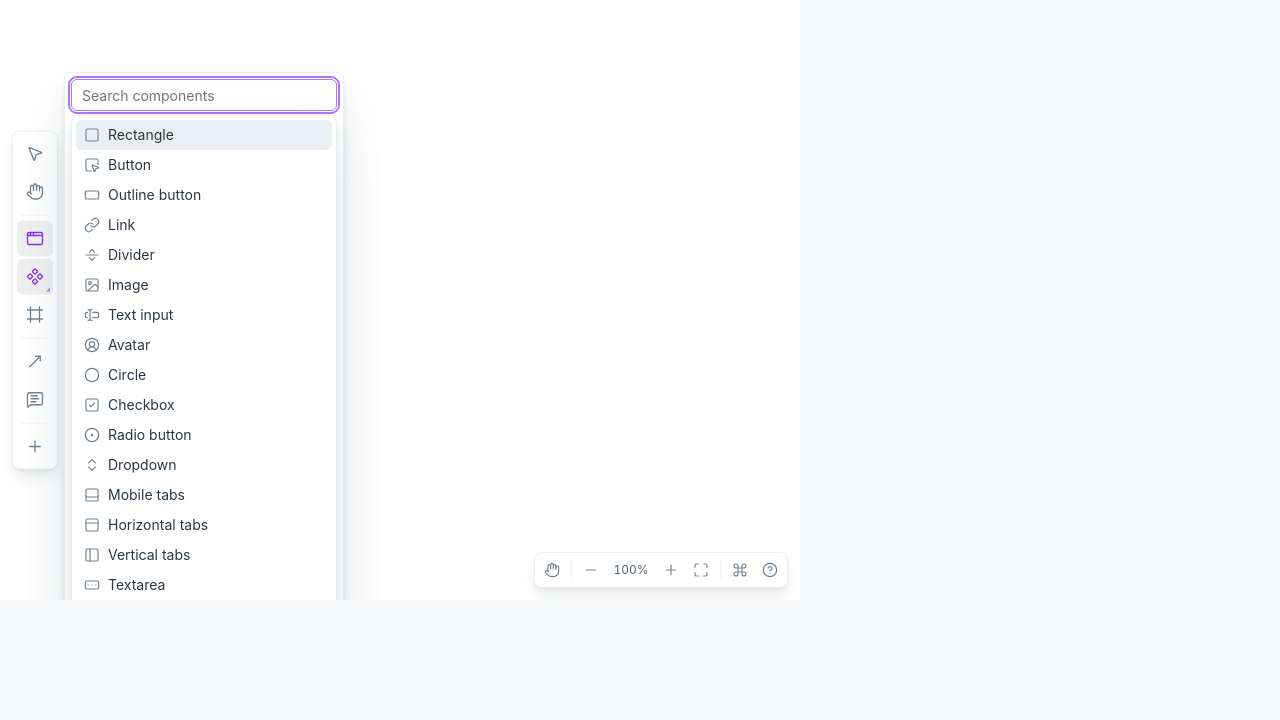
Test: wireframe plugin › opens the component launcher with E, filters, picks and places with Enter
This screenshot has width=1280, height=720.
Type "modal" into the field with placeholder "Search components" at (204, 95), box [71,79,337,111]
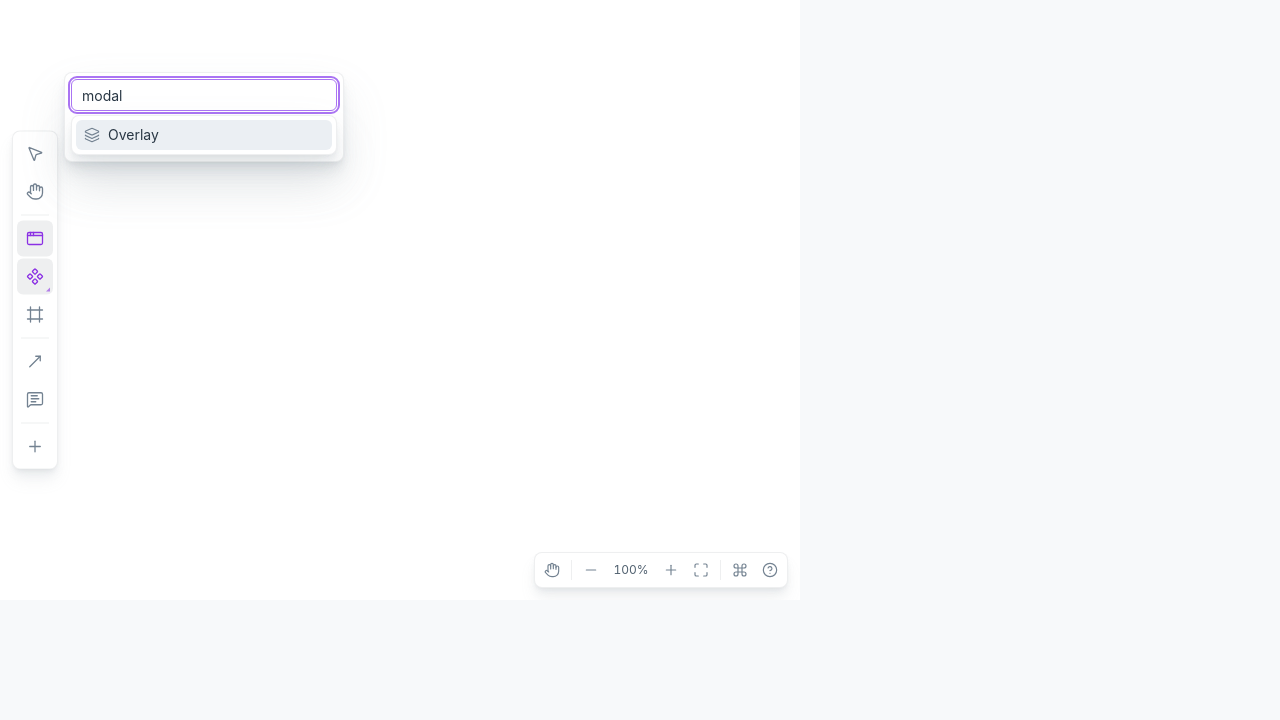
Press Enter in the field named "Search components", box [71,79,337,111]
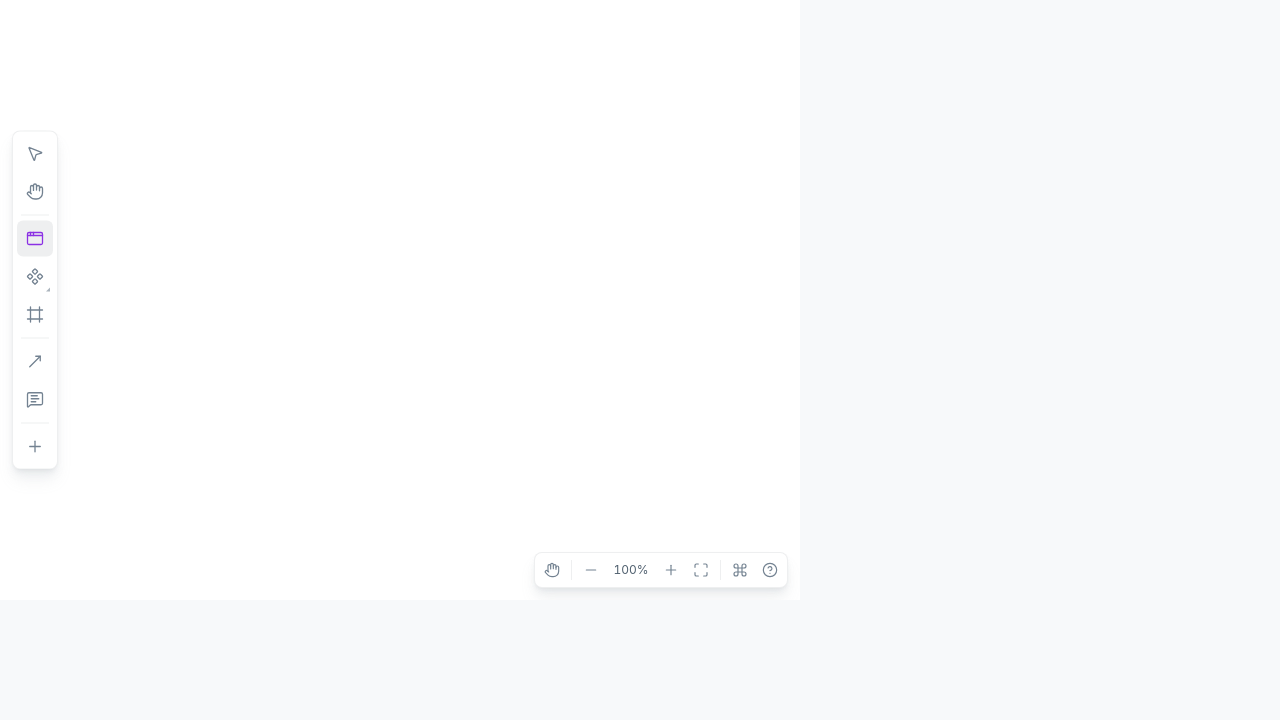
expect the dialog with class "wf-panel" is gone: met
